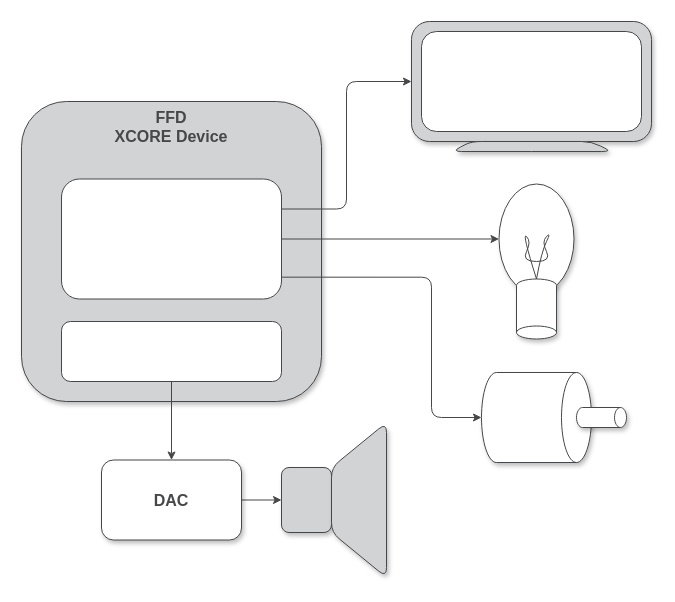
This 675x602 diagram has some shape labels left out. The centre of each missing label's shape, as x and y in pixels:
I2S Master: point 171,351
User developed control: point 171,238
